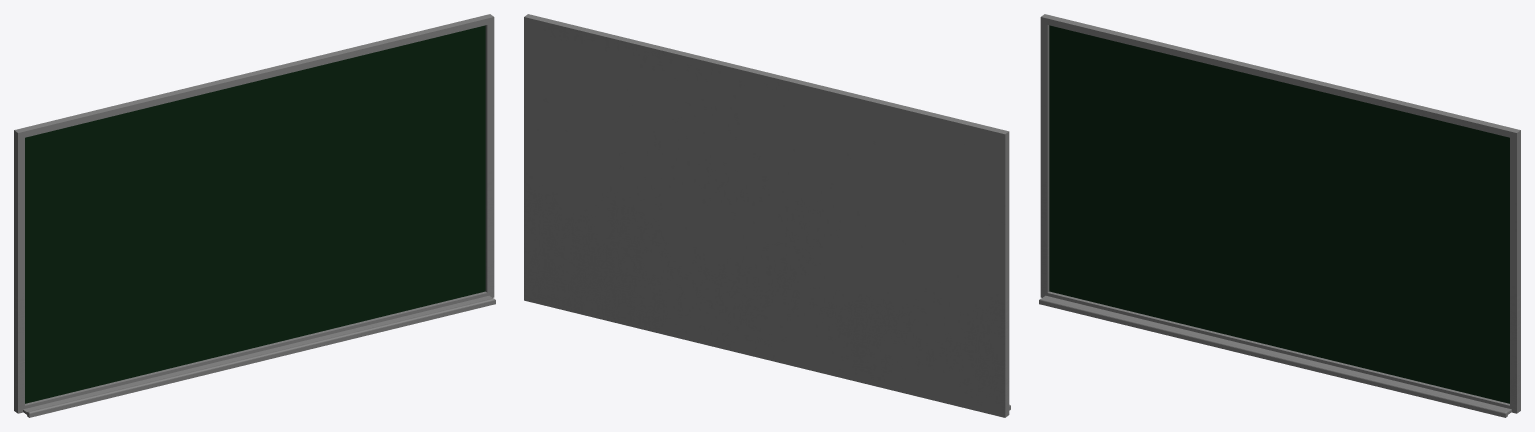
Rendered from tableau.fbx.
3 views of the same model, side by side, from view 1: azimuth 30°, elevation 25°; view 2: azimuth 150°, elevation 25°; view 3: azimuth 330°, elevation 25° (orthographic).
Visible parts, largest first — view 1: Tableau; view 2: Tableau; view 3: Tableau.
Part boxes in pixels (box(x1,y1,x2,y2)): Tableau: box(14, 14, 495, 417); Tableau: box(524, 14, 1010, 417); Tableau: box(1039, 14, 1520, 417).
Size of the model in its own units: 494 by 18.85 by 279.
